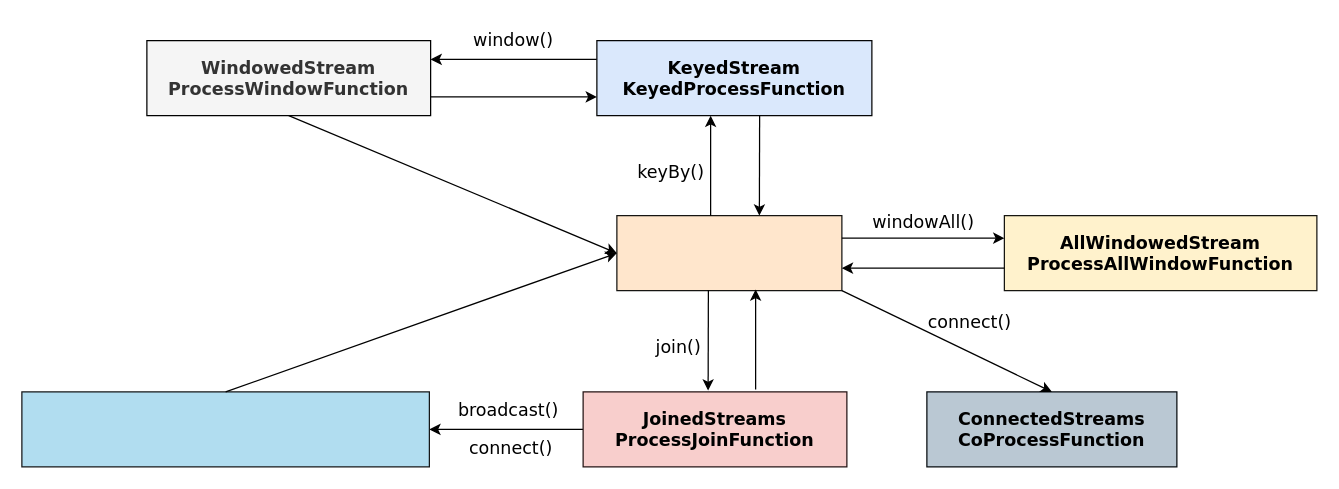
Image size: 1339x489. Some labels were removed from this diagram. Here are the shapes that lost their labels. From the top down, the box of each, then its label:
(616, 214, 842, 291): DataStream ProcessFunction
(21, 391, 429, 467): BroadcastConnectedStream BroadcastProcessFunction Keyed BroadcastProcessFunction
